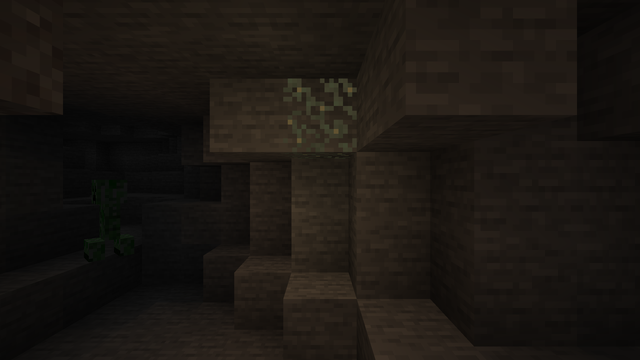creepers: (82, 176, 133, 260)
